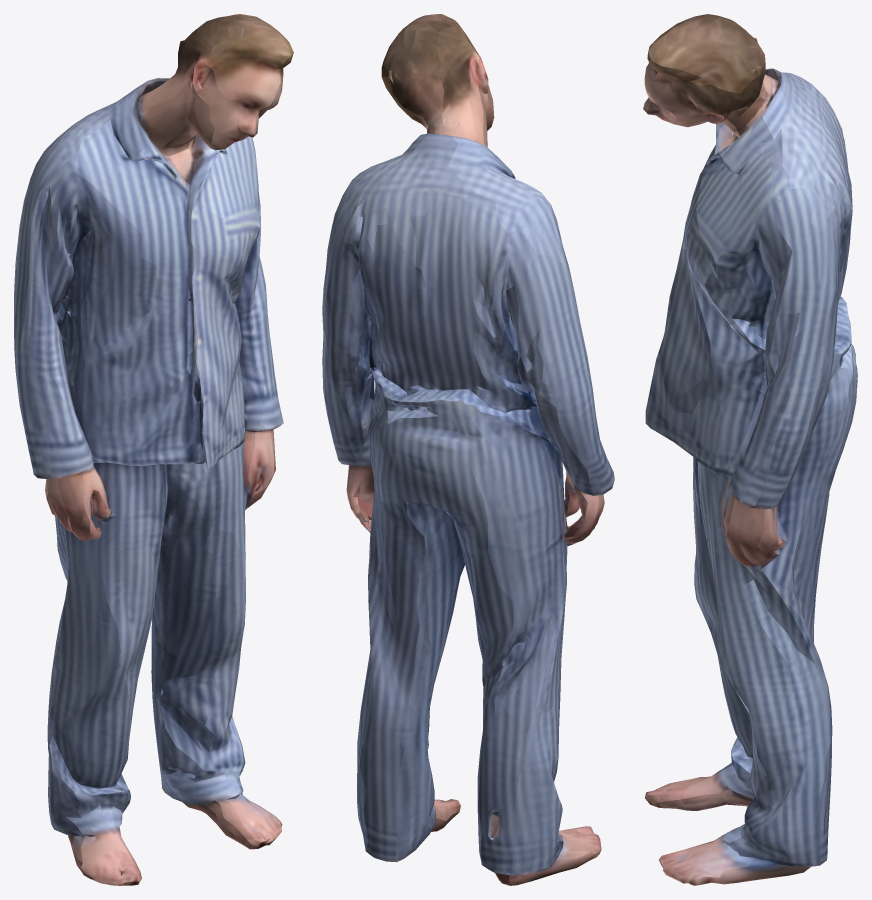
File: charge_doppel.glb
3 renders of one model, left to right at view 1: azimuth 30°, elevation 25°; view 2: azimuth 150°, elevation 25°; view 3: azimuth 270°, elevation 25°, orthographic. The views are drawn at different scales.
Parts seen in each view (by area): view 1: geometry_0; view 2: geometry_0; view 3: geometry_0.
Part boxes in pixels (x1,y1,x2,y2): geometry_0: (14,14,293,885); geometry_0: (322,14,614,885); geometry_0: (643,14,857,885).
Bounding box in the file's own units: 0.5972 × 1.8 × 0.412.
Materials: 1 (1 with a texture image).
